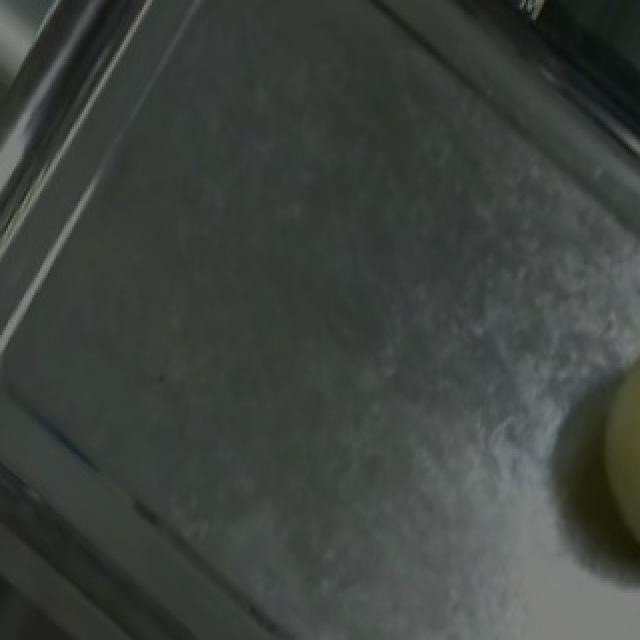Fruit: (584, 325, 640, 603)
